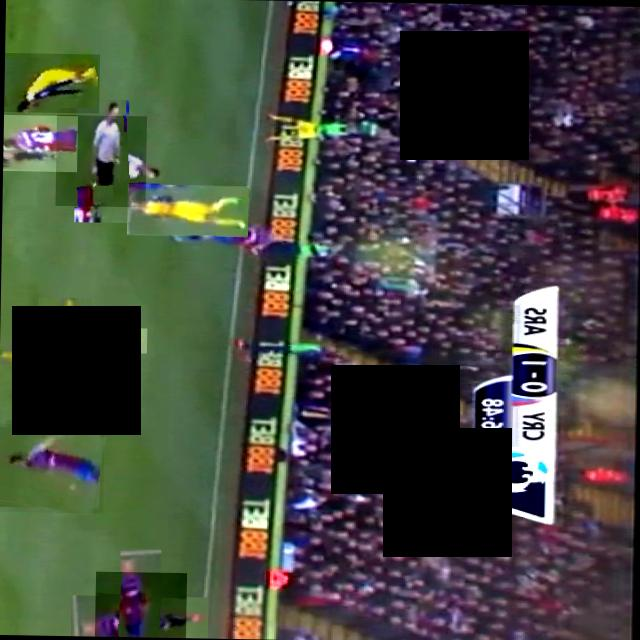ball: (114, 326, 146, 352)
referee: (55, 113, 147, 206)
soccer-player: (13, 310, 114, 410), (0, 422, 104, 512), (126, 182, 248, 235), (95, 570, 186, 638), (4, 51, 100, 112), (2, 114, 78, 170)
